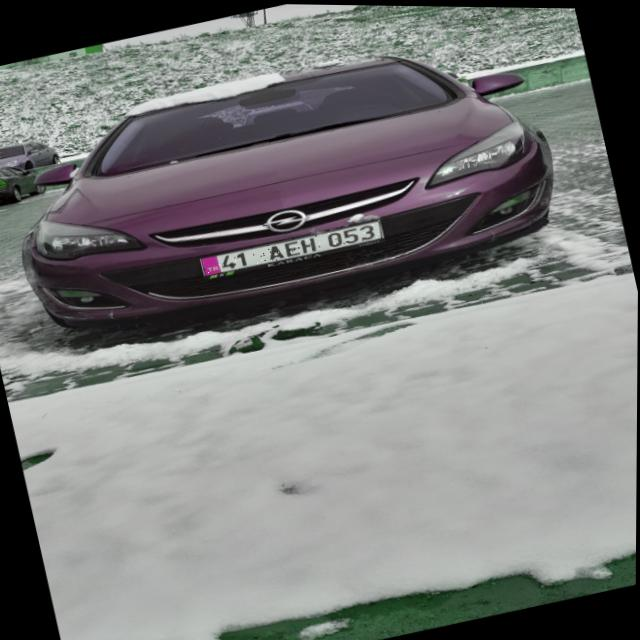license_plate: (200, 216, 383, 277)
